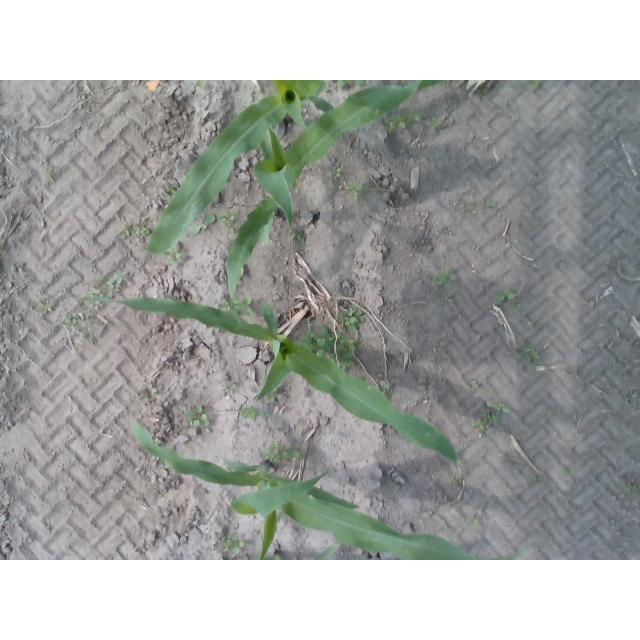Maize: (78, 295, 458, 470), (128, 420, 522, 560), (227, 81, 445, 328), (143, 81, 321, 256), (315, 545, 341, 560)
Weeds: (336, 308, 365, 328), (184, 405, 209, 427), (347, 178, 370, 199), (306, 329, 330, 349), (493, 287, 516, 306), (262, 445, 282, 463), (225, 536, 244, 554), (236, 294, 253, 314), (437, 268, 458, 284), (478, 415, 496, 433), (240, 406, 261, 421), (388, 117, 407, 132), (488, 403, 509, 416), (523, 345, 538, 363), (106, 277, 123, 292), (337, 339, 355, 353), (464, 513, 482, 527), (169, 250, 184, 265), (336, 80, 364, 88), (67, 312, 84, 325), (522, 80, 540, 92), (284, 450, 302, 462), (429, 117, 444, 131), (292, 229, 307, 243), (339, 352, 354, 366), (221, 214, 235, 227), (407, 112, 422, 124), (135, 225, 150, 237), (120, 225, 130, 239), (333, 166, 344, 178), (562, 466, 574, 477), (626, 483, 638, 494), (193, 80, 207, 89), (467, 201, 478, 211), (40, 303, 49, 313), (468, 380, 478, 388), (488, 200, 497, 208), (448, 478, 456, 486), (523, 219, 529, 225)
